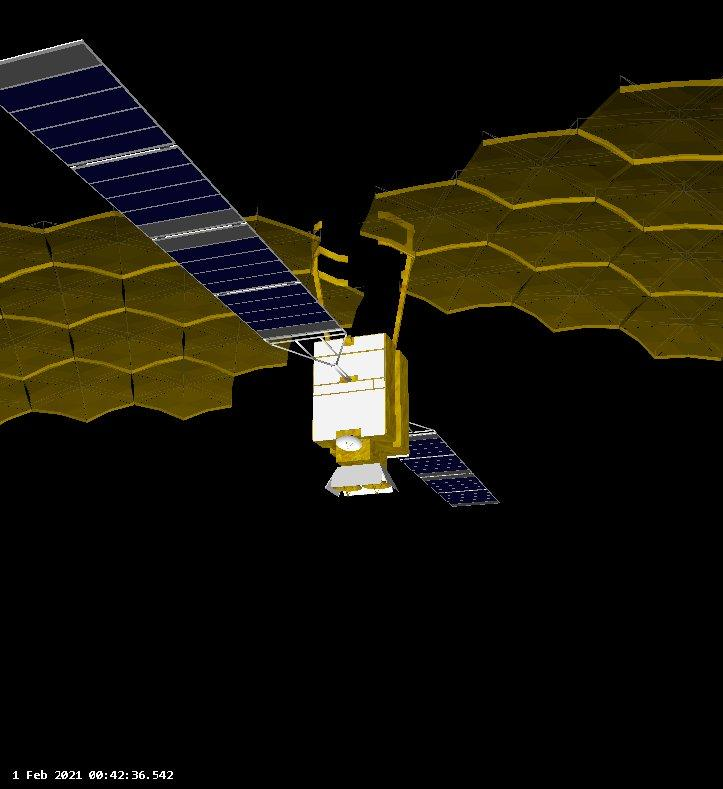antenna: (355, 76, 723, 366), (0, 206, 370, 425), (334, 436, 363, 453)
body: (311, 330, 413, 462)
solar: (0, 36, 346, 344), (398, 431, 503, 509)
thruster: (324, 463, 397, 500)
